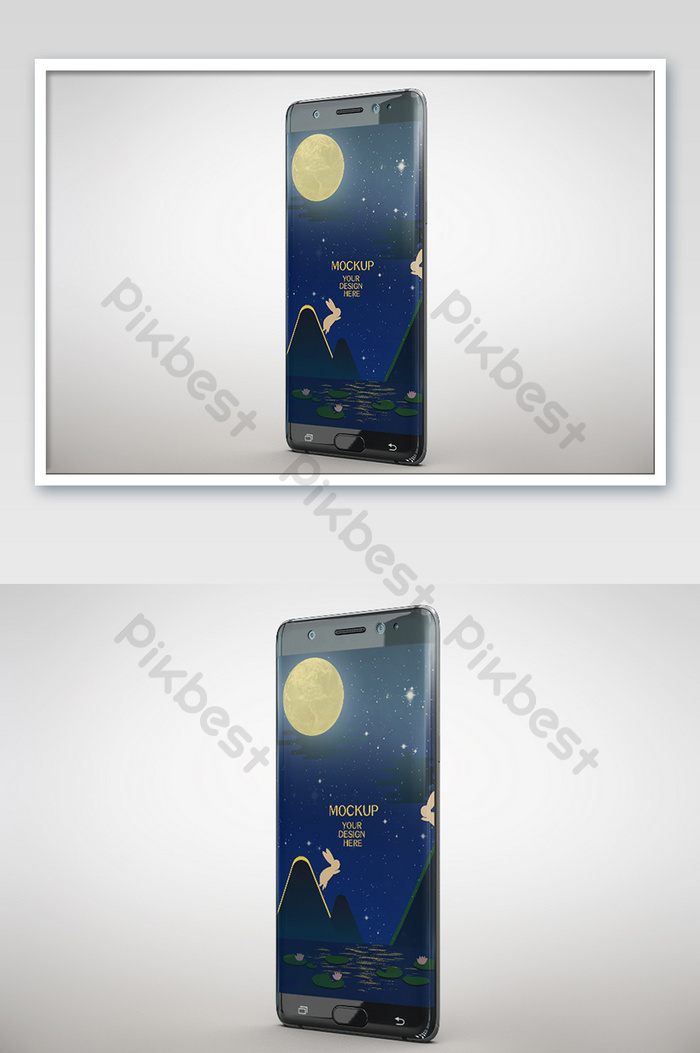Phone: (269, 603, 449, 1049), (281, 86, 433, 470)
